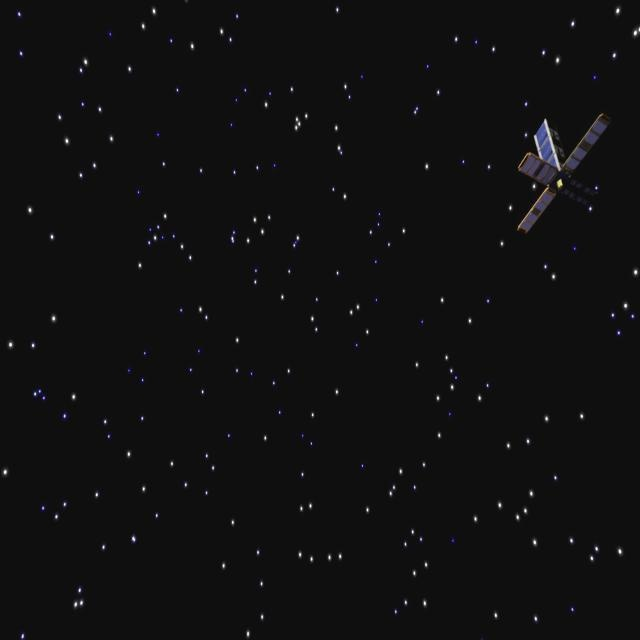satellite: (506, 107, 606, 235)
